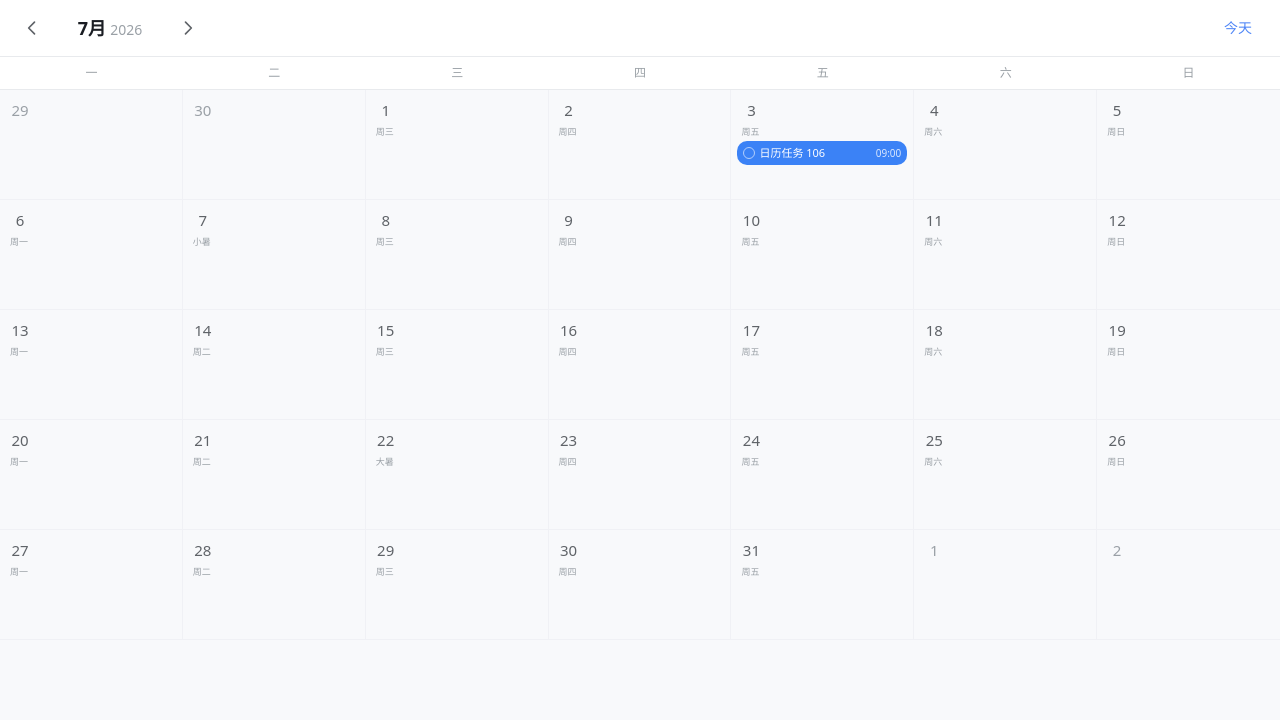
Test: 日历任务右键菜单 › 重命名：Escape 取消不触发更新
The image size is (1280, 720).
Right-click the element with test id "calendar-task-block-106": (822, 153) 737,141 -> 907,165
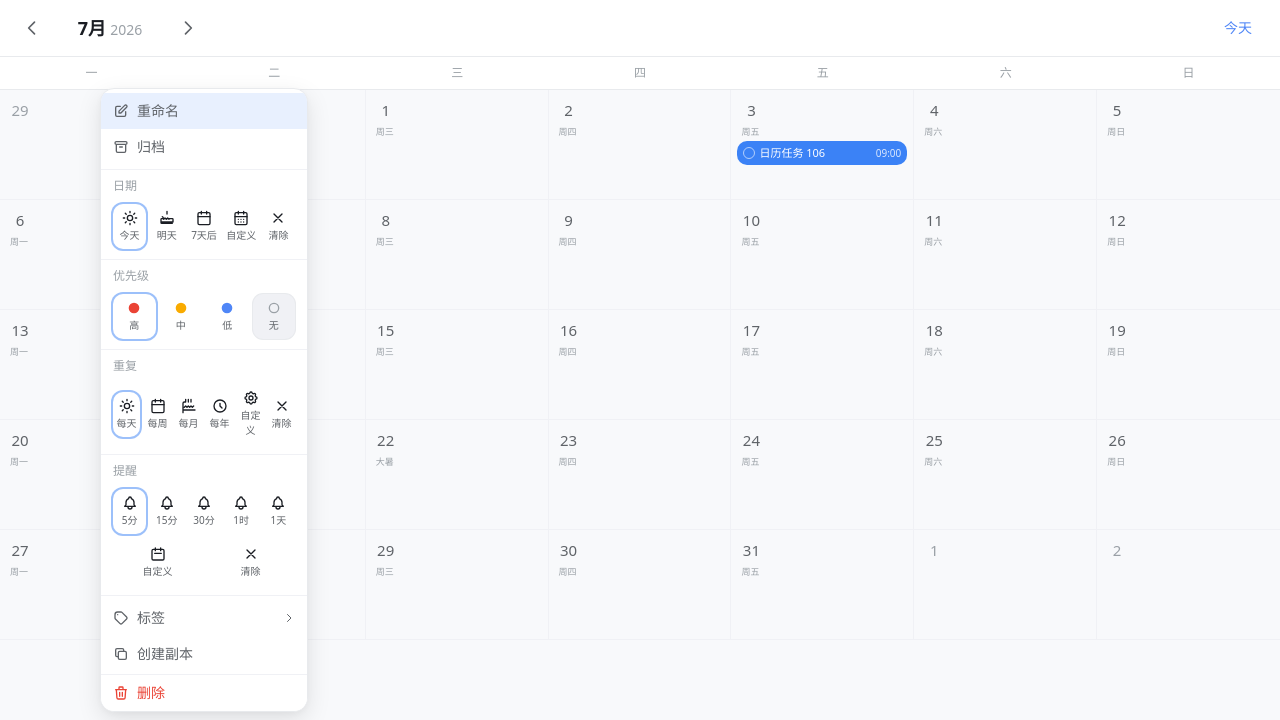
Click the button with test id "ctx-rename": (204, 111) 101,93 -> 307,129
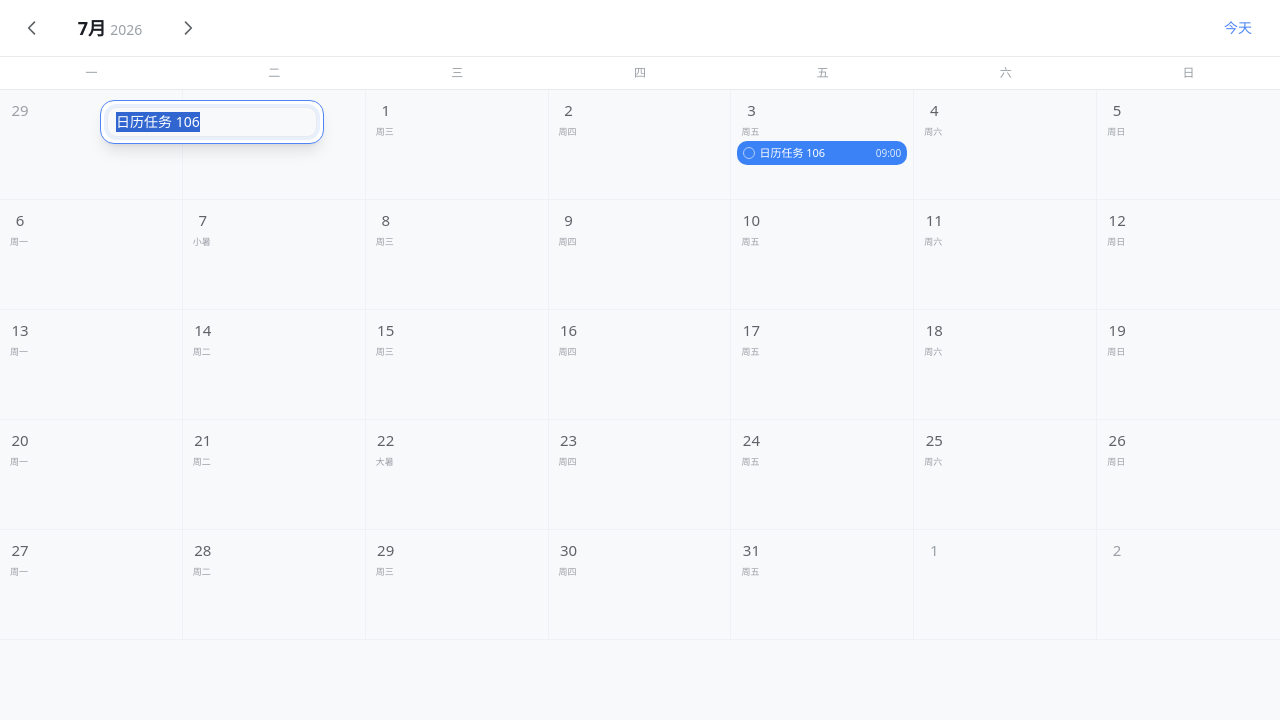
Replace the text in the field with test id "task-rename-input" with "不应保存": (212, 122) 107,107 -> 317,137
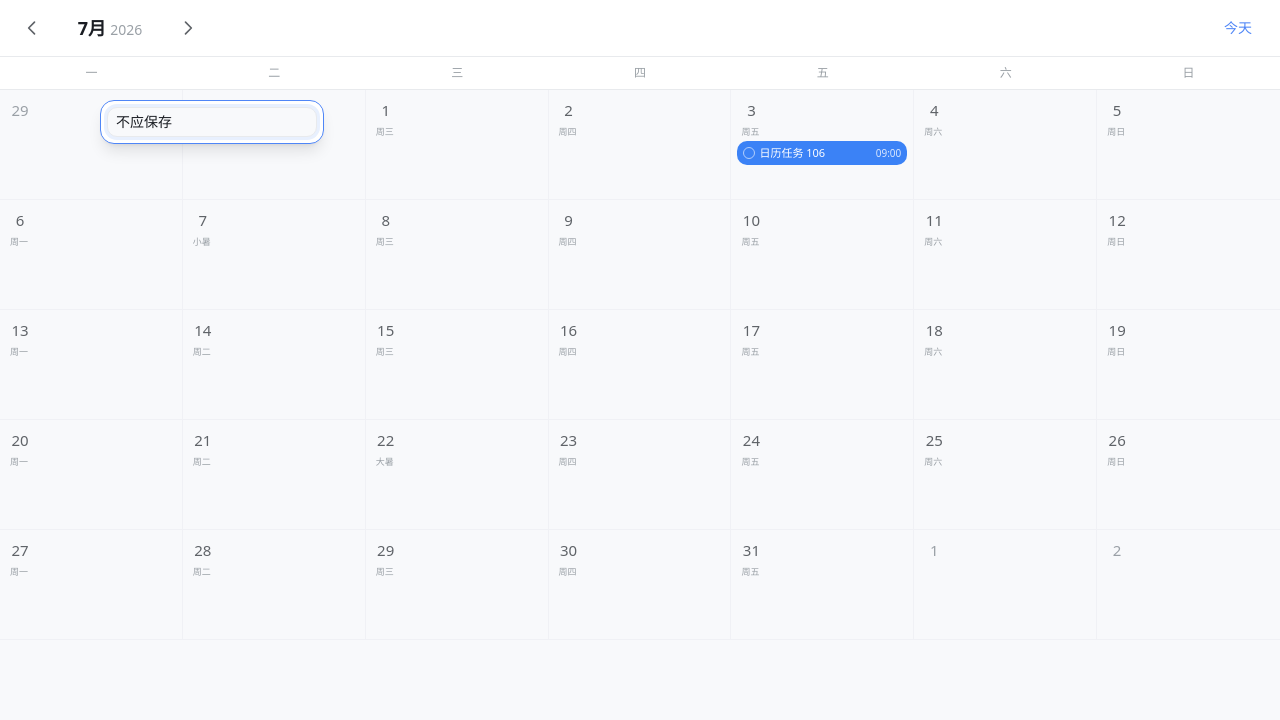
Press Escape in the field with test id "task-rename-input", box 107,107 -> 317,137
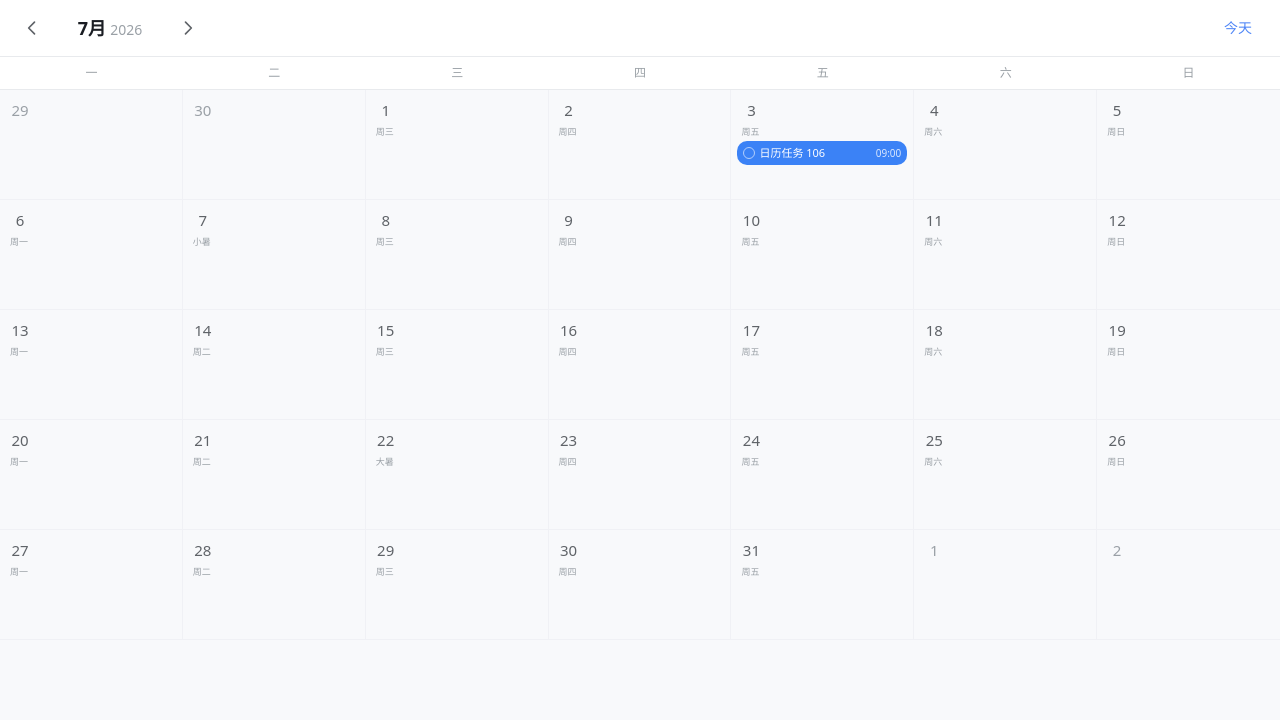
Check: the field with test id "task-rename-input" is gone
